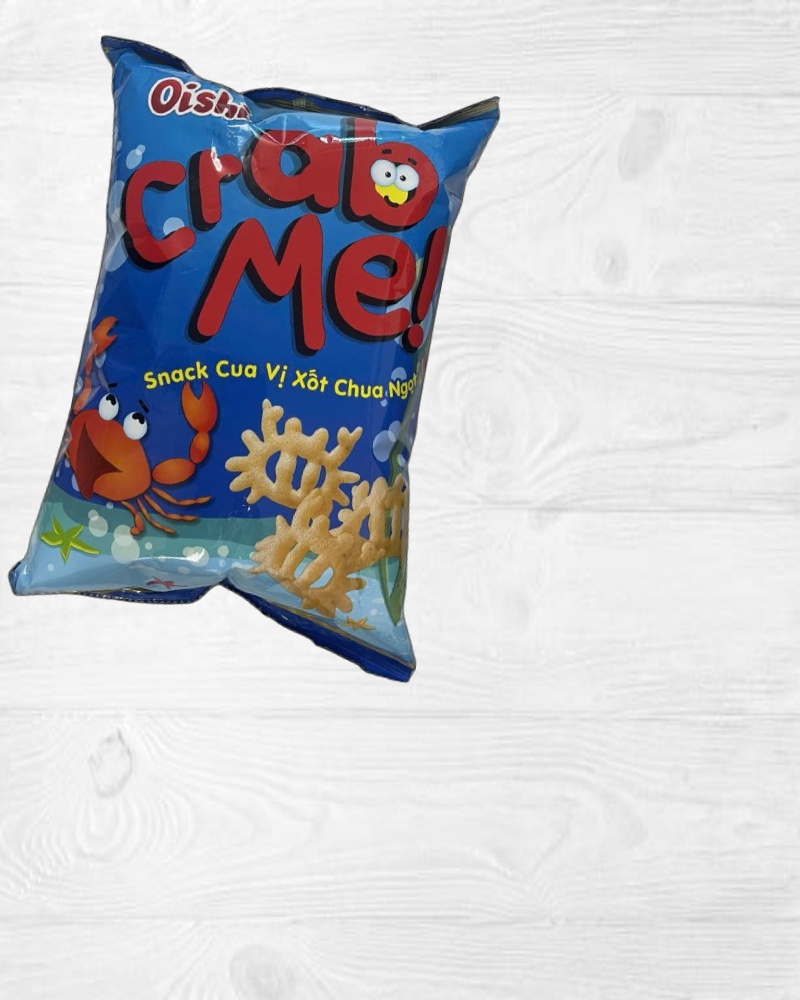Snack chay: (1, 28, 516, 686)
